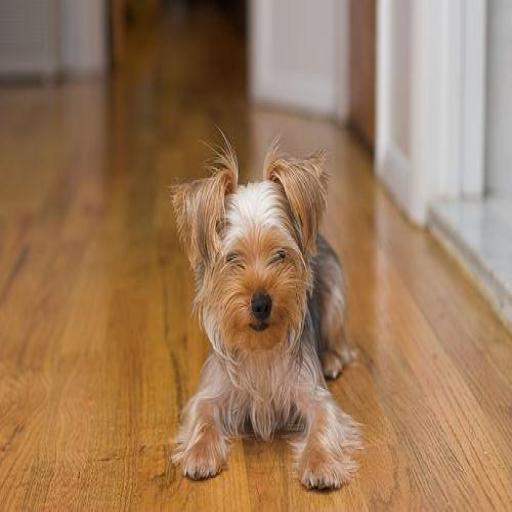dog_face: (173, 160, 328, 358)
